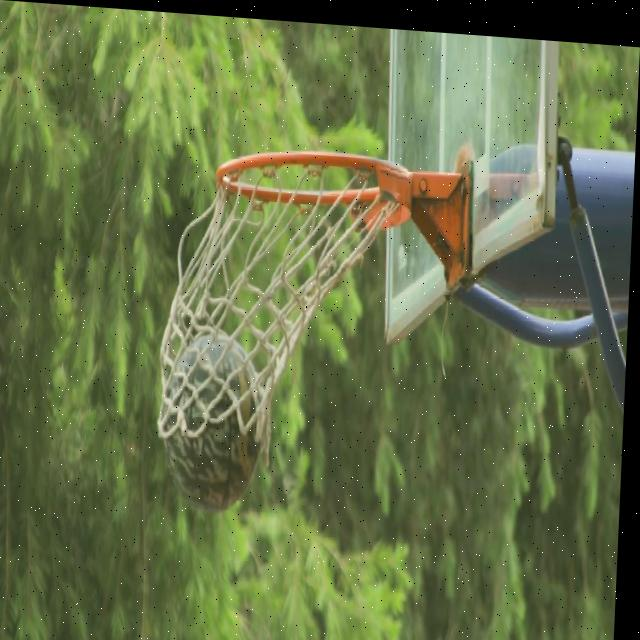basketball: (158, 325, 271, 509)
hoop: (148, 135, 407, 521), (148, 138, 405, 483)
